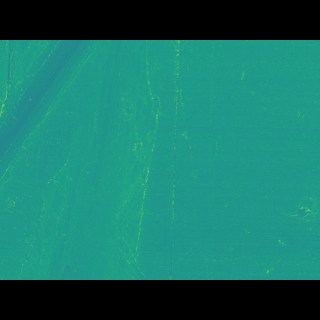Loch: (0, 69, 163, 249), (275, 182, 319, 212)
